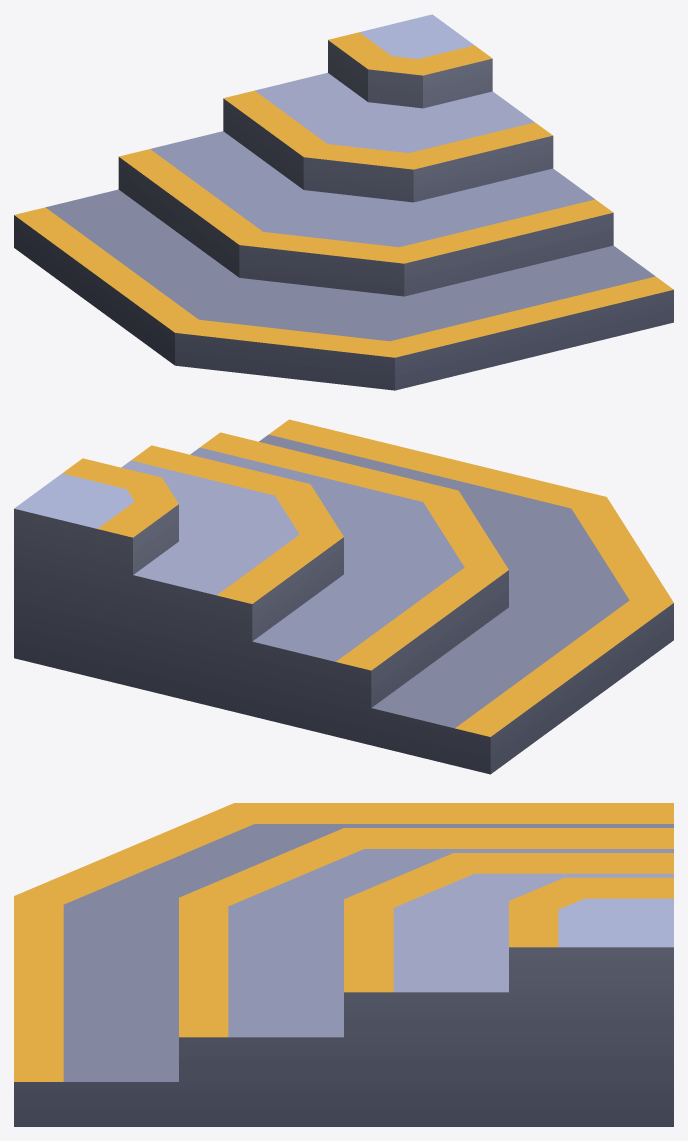
The model's file is kenney-space-station-stairs-corner.glb.
The picture shows the model from 3 angles, top to bottom: view 1: azimuth 30°, elevation 25°; view 2: azimuth 150°, elevation 25°; view 3: azimuth 270°, elevation 25°; orthographic projection. The views are drawn at different scales.
Visible parts, largest first — view 1: stairs-corner; view 2: stairs-corner; view 3: stairs-corner.
Boxes of the visible parts, x1,y1,x2,y2 form: stairs-corner: (14, 14, 673, 390); stairs-corner: (14, 419, 673, 774); stairs-corner: (14, 803, 673, 1126).
Size of the model in its own units: 1 by 0.3 by 1.
Materials: 1 (1 with a texture image).
